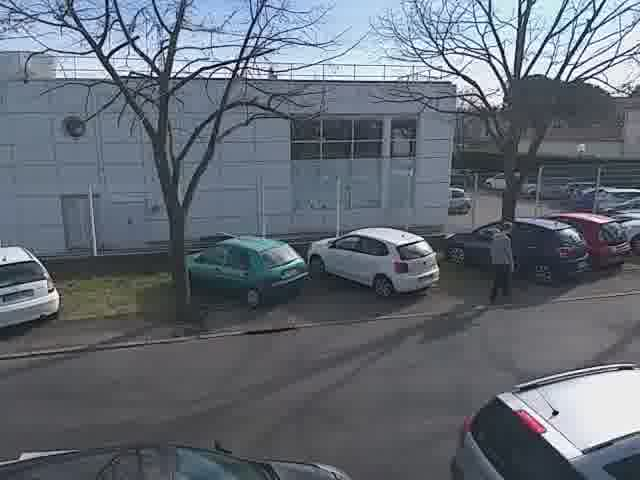persona: (484, 213, 523, 306)
